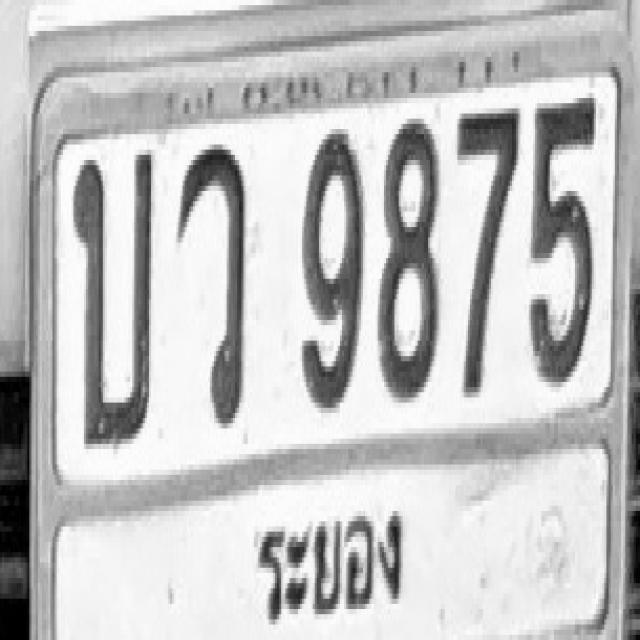35BorBaiMai: (72, 147, 154, 447)
46WorWaen: (177, 142, 246, 426)
5: (529, 96, 596, 384)
7: (456, 103, 520, 392)
8: (378, 116, 438, 400)
9: (301, 129, 362, 408)
Rayong: (249, 482, 405, 630)
